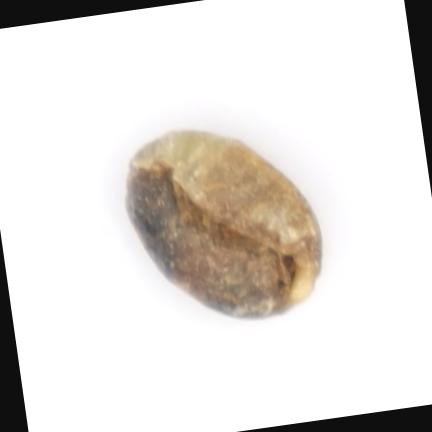partial-black: (127, 130, 321, 314)
